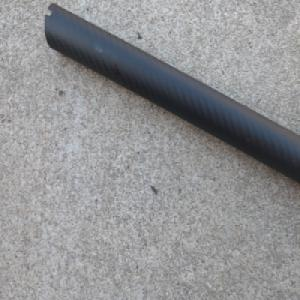LuggagePart: (45, 3, 300, 188)
